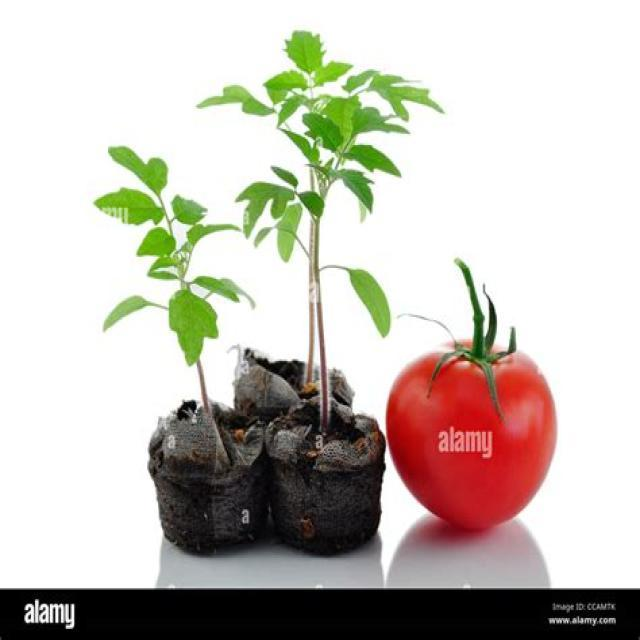Tomato: (385, 271, 559, 533)
